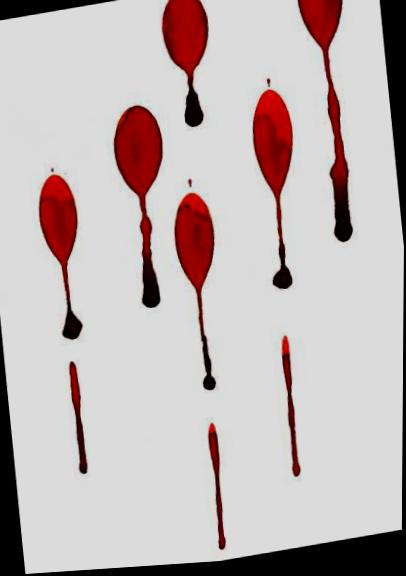Fire: (298, 0, 354, 247), (115, 107, 164, 311), (252, 91, 295, 294), (175, 195, 218, 396), (40, 173, 84, 343), (161, 0, 210, 131), (281, 342, 301, 483), (208, 425, 228, 553), (68, 363, 90, 477)
